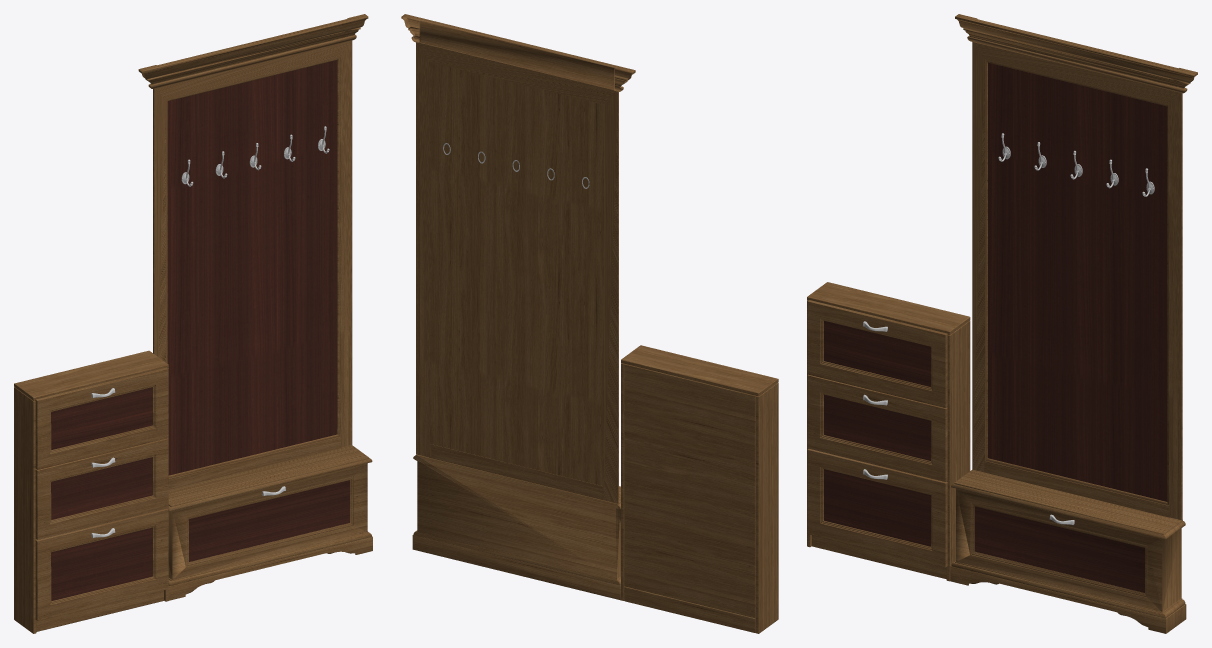
The model's file is veshalka__vray.fbx.
The picture shows the model from 3 angles, left to right: view 1: azimuth 30°, elevation 25°; view 2: azimuth 150°, elevation 25°; view 3: azimuth 330°, elevation 25°; orthographic projection. The views are drawn at different scales.
Parts seen in each view (by area): view 1: veshalka_001; view 2: veshalka_001; view 3: veshalka_001.
Boxes of the visible parts, <box> form: veshalka_001: <box>14,14,372,633</box>; veshalka_001: <box>401,14,778,633</box>; veshalka_001: <box>807,14,1197,633</box>.
Size of the model in its own units: 155 by 220 by 19.32.
